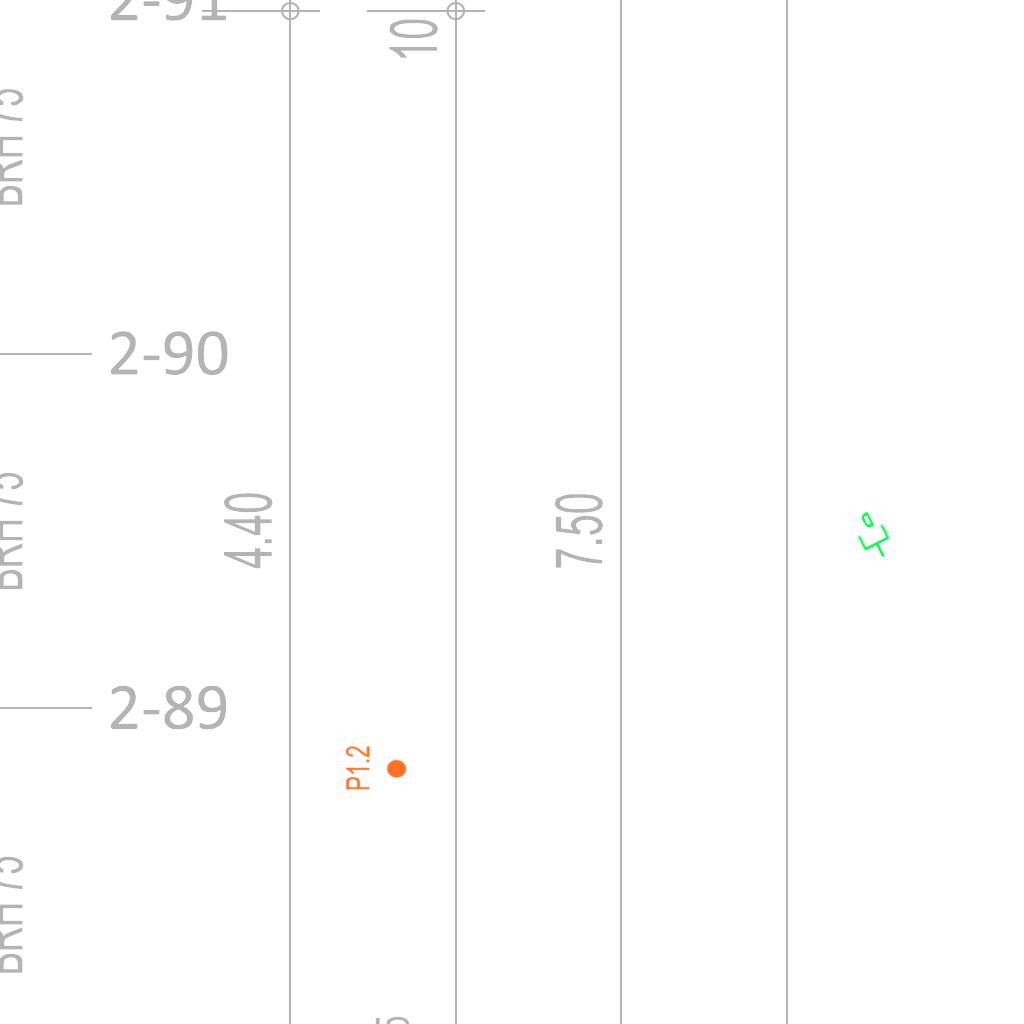Datenanschluss_einfach: (845, 506, 899, 566)
Downlight_LED_Einbauleuchten_Flur: (344, 745, 408, 791)
